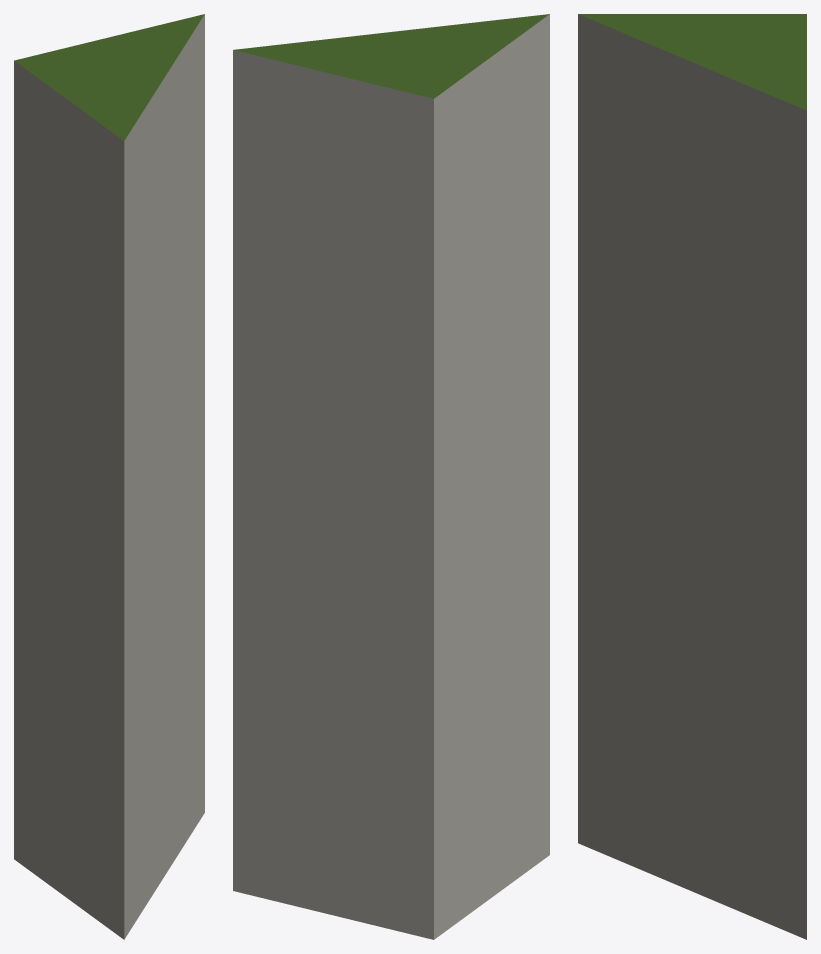
Rendered from Terrain_Tile_Grass_Rock_Cliff_Face_Straight_Corner_01.fbx.
3 views of the same model, side by side, from view 1: azimuth 30°, elevation 25°; view 2: azimuth 150°, elevation 25°; view 3: azimuth 270°, elevation 25° (orthographic). The views are drawn at different scales.
Parts seen in each view (by area): view 1: Terrain_Tile_Grass_Rock_Cliff_Face_Straight_Corner_01; view 2: Terrain_Tile_Grass_Rock_Cliff_Face_Straight_Corner_01; view 3: Terrain_Tile_Grass_Rock_Cliff_Face_Straight_Corner_01.
Boxes of the visible parts, x1,y1,x2,y2 form: Terrain_Tile_Grass_Rock_Cliff_Face_Straight_Corner_01: (14, 14, 204, 939); Terrain_Tile_Grass_Rock_Cliff_Face_Straight_Corner_01: (233, 14, 549, 939); Terrain_Tile_Grass_Rock_Cliff_Face_Straight_Corner_01: (578, 14, 806, 939).
Size of the model in its own units: 31.5 by 126 by 31.5.
